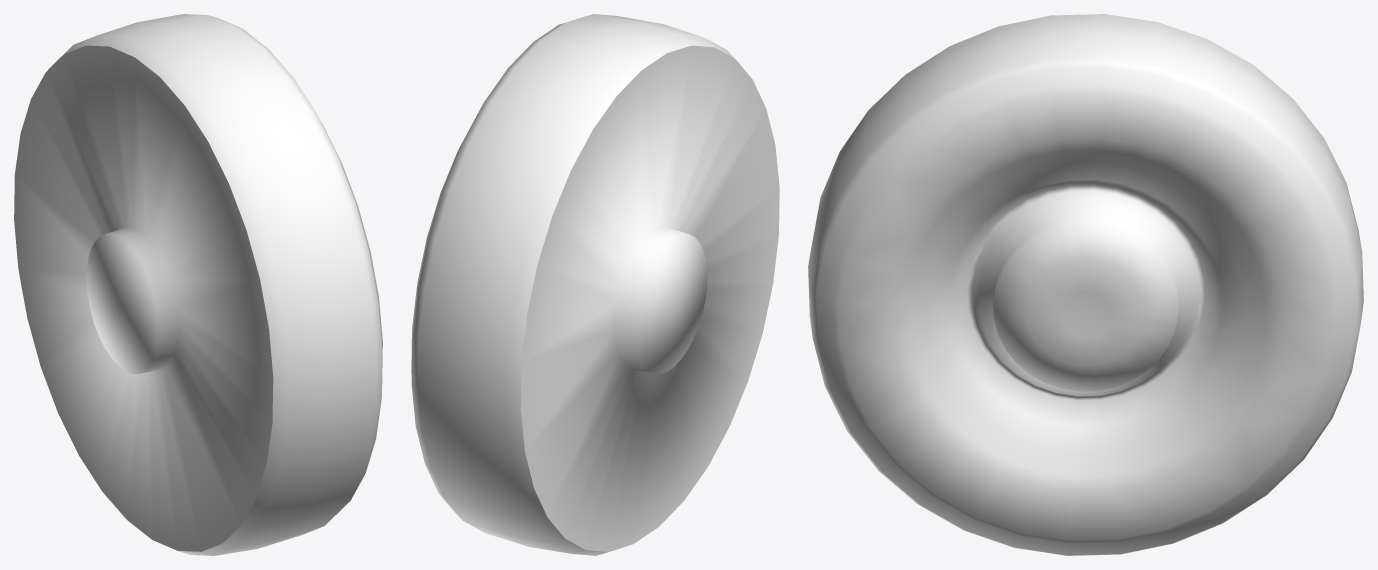
3 renders of one model, left to right at view 1: azimuth 30°, elevation 25°; view 2: azimuth 150°, elevation 25°; view 3: azimuth 270°, elevation 25°, orthographic. The views are drawn at different scales.
Size of the model in its own units: 0.2082 by 0.6637 by 0.6637.
Materials: 1 (1 with a texture image).
